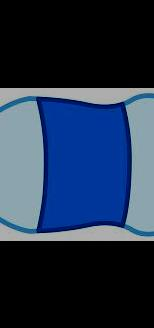bottle: (0, 87, 154, 241)
